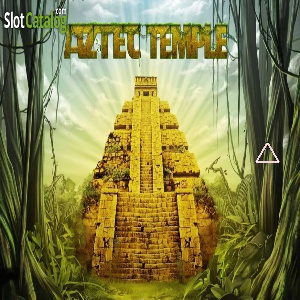triangle: (254, 142, 281, 166)
